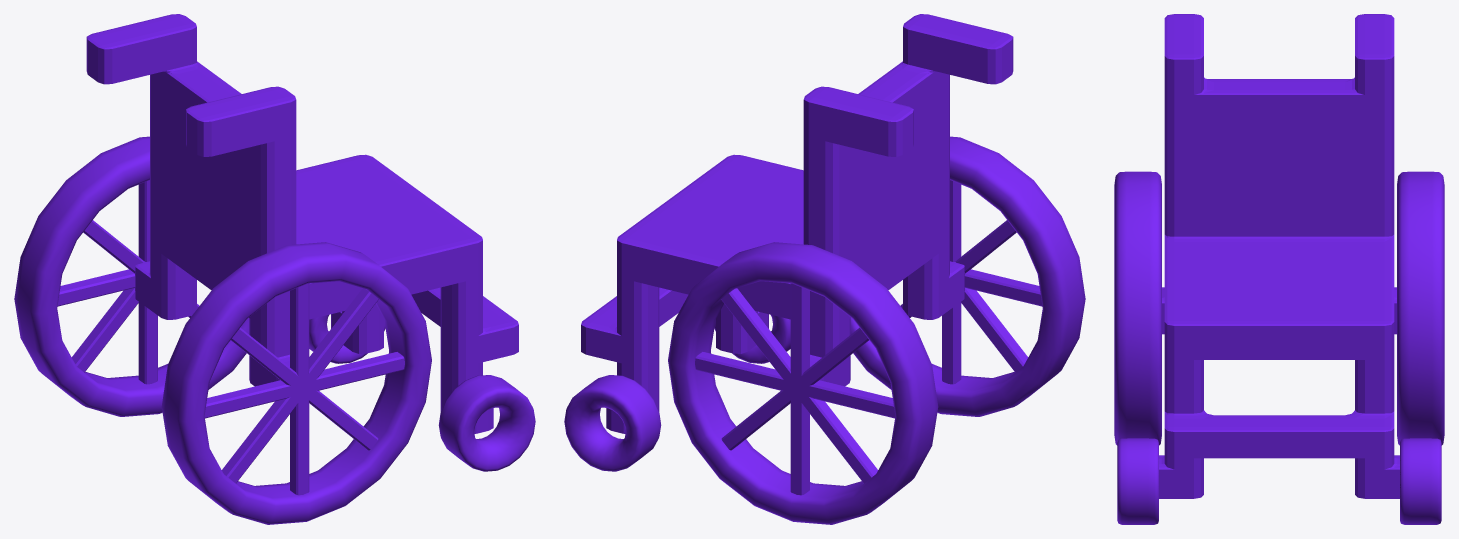
Rendered from wheelchair.glb.
3 views of the same model, side by side, from view 1: azimuth 30°, elevation 25°; view 2: azimuth 150°, elevation 25°; view 3: azimuth 270°, elevation 25° (orthographic). The views are drawn at different scales.
Visible parts, largest first — view 1: Cube, Torus, Cube.001, Torus.001; view 2: Cube, Torus, Cube.001, Torus.001; view 3: Cube, Torus, Torus.001.
Part boxes in pixels (x1,y1,x2,y2): Cube: (86,14,518,433); Torus: (14,136,431,524); Cube.001: (57,180,404,495); Torus.001: (309,315,535,471); Cube: (581,14,1013,433); Torus: (668,136,1085,524); Cube.001: (695,180,1042,495); Torus.001: (564,315,790,471); Cube: (1159,14,1399,498); Torus: (1114,171,1444,445); Torus.001: (1117,438,1441,524).
Bounding box in the file's own units: 3.52 × 3.7 × 2.87.
